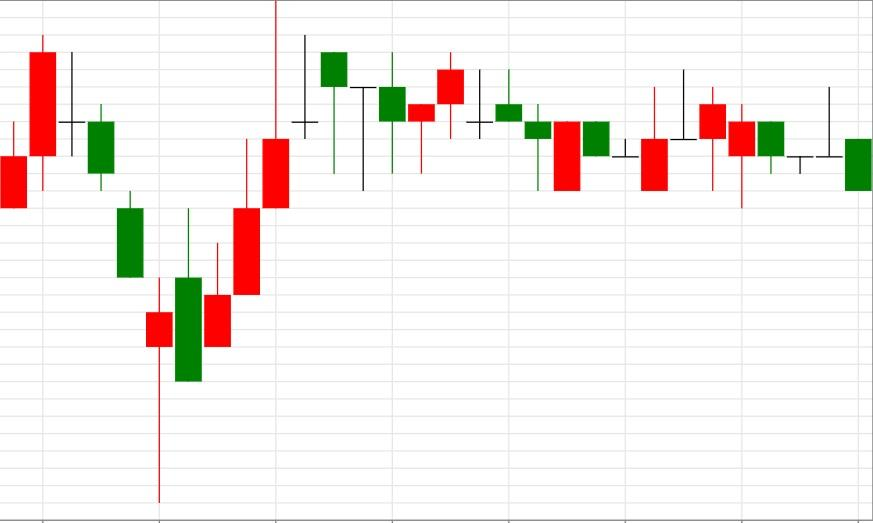three_white_soldiers_rise: (28, 0, 290, 502)
